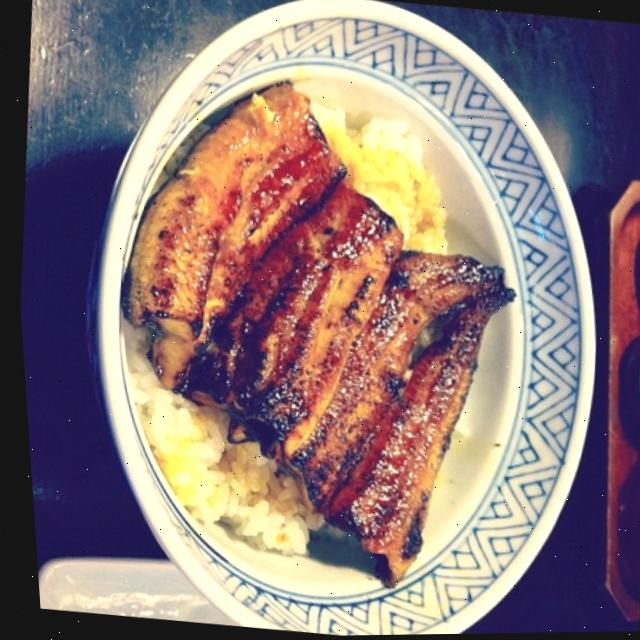熟制海鲜: (46, 0, 620, 639)
